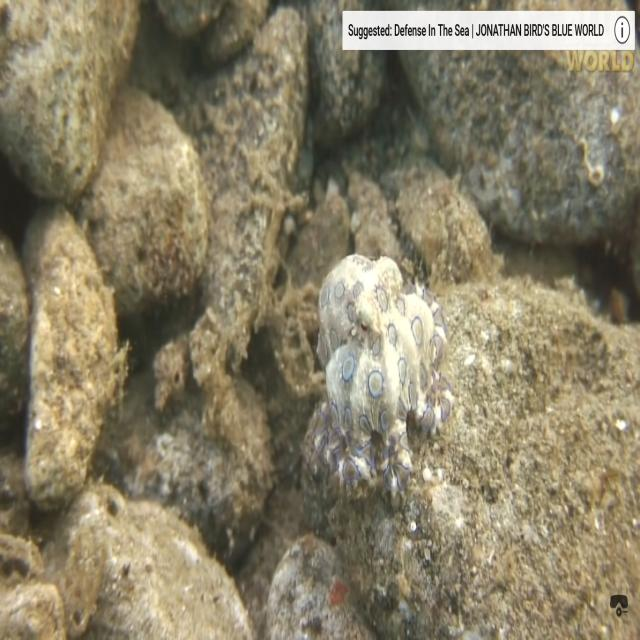blue_ringed_octopus: (312, 252, 454, 498)
